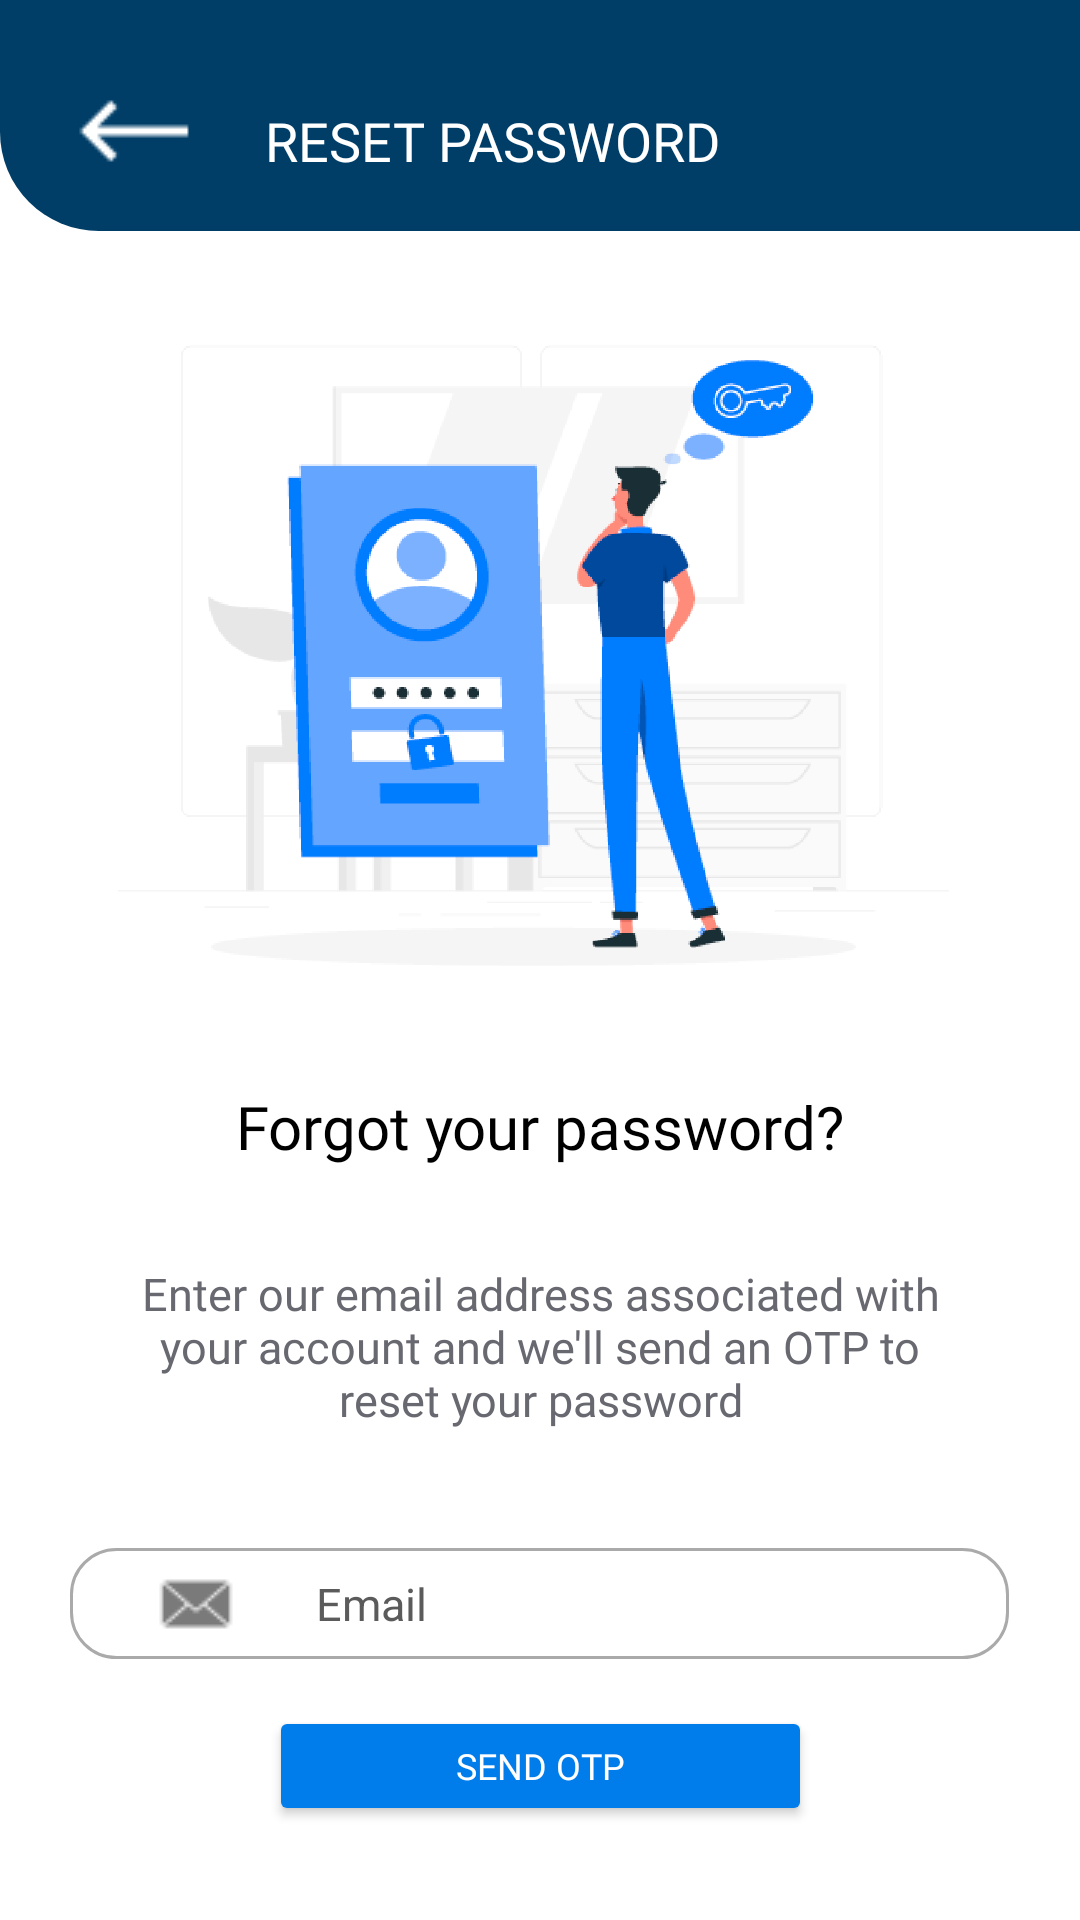

Icons on this 1080×1920 Android screen, each with the point to tap as (x,y):
back arrow: (134,131)
